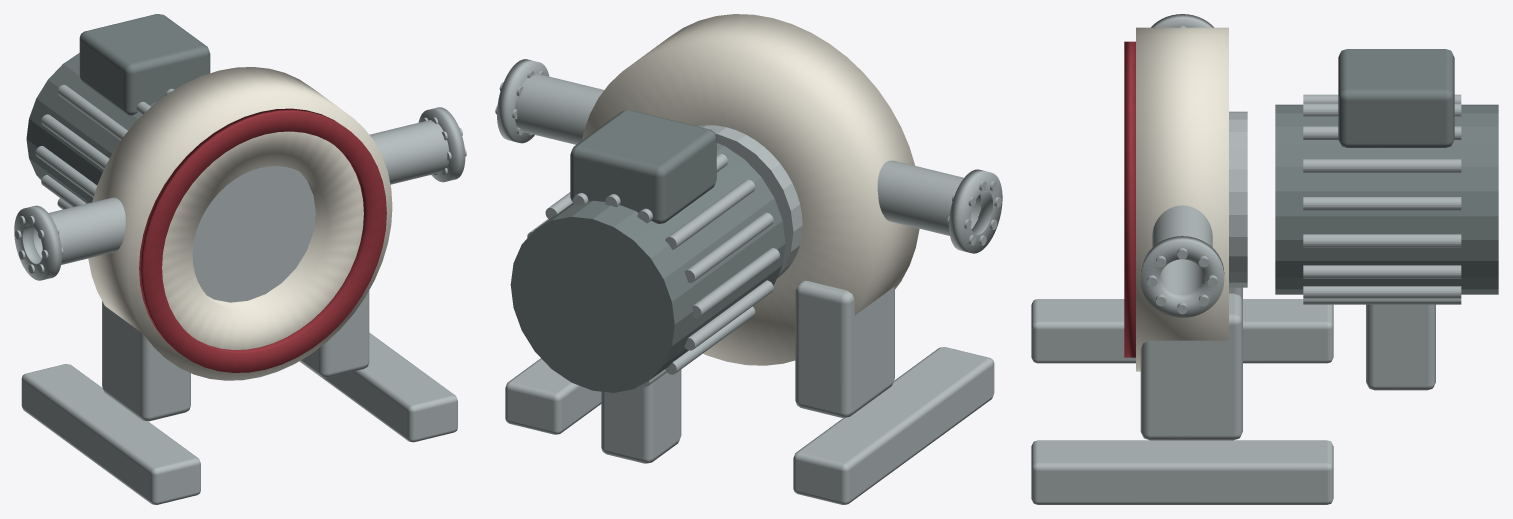
The model's file is pneumatic-tube-mail-exchange-pneumatic-tube-mail-excha-0f16f1f9__32294.glb.
The picture shows the model from 3 angles, left to right: view 1: azimuth 30°, elevation 25°; view 2: azimuth 150°, elevation 25°; view 3: azimuth 270°, elevation 25°; orthographic projection. The views are drawn at different scales.
Visible parts, largest first — view 1: pneumatic-tube-mail-exchange-side-channel-blower; view 2: pneumatic-tube-mail-exchange-side-channel-blower; view 3: pneumatic-tube-mail-exchange-side-channel-blower.
Part boxes in pixels (bbox=[...]): pneumatic-tube-mail-exchange-side-channel-blower: bbox=[14, 14, 466, 504]; pneumatic-tube-mail-exchange-side-channel-blower: bbox=[495, 14, 1002, 504]; pneumatic-tube-mail-exchange-side-channel-blower: bbox=[1031, 14, 1498, 504].
Size of the model in its own units: 1.18 by 0.9 by 1.01.
